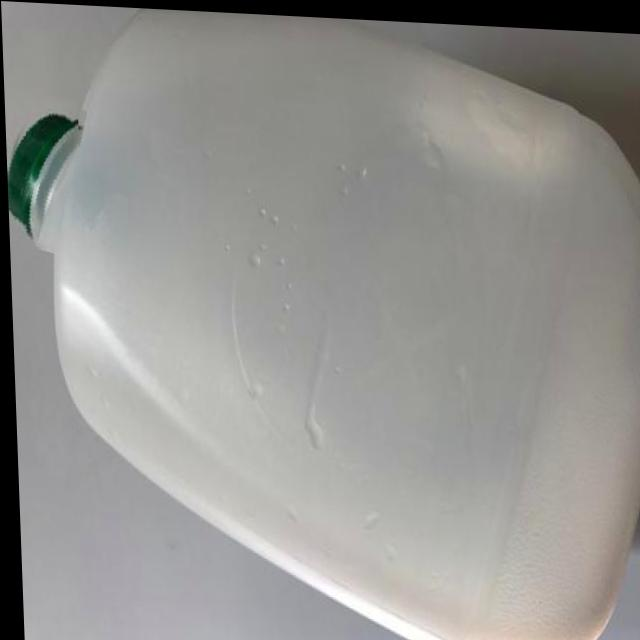litter: (3, 93, 80, 251)
